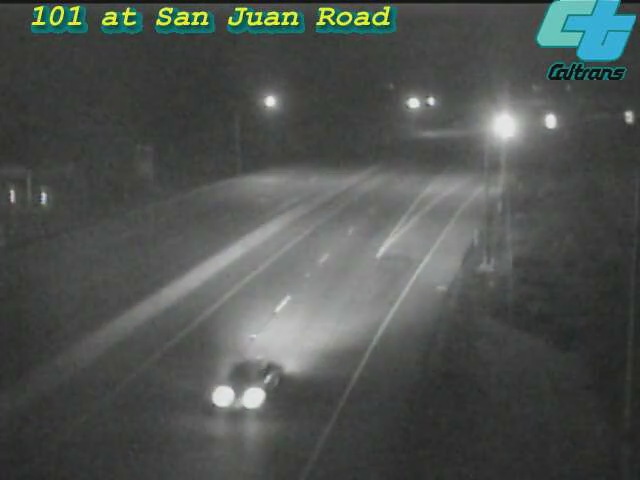vehicle: (194, 322, 304, 432), (481, 101, 531, 151), (529, 94, 579, 144)
